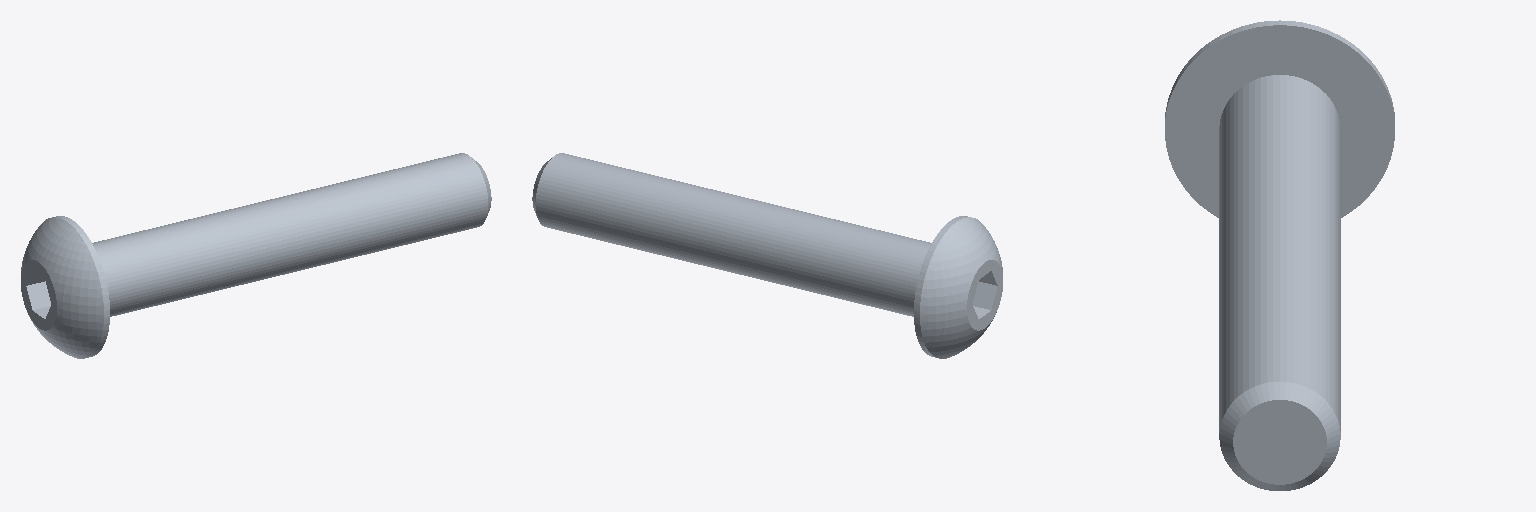
URDF robot description (rbe595_screw):
<robot name="rbe595_screw">
    <link name="root">
        <inertial>
            <mass value="0.003" />
            <origin xyz="-1.11519e-17 0.0578898 1.8646e-17" rpy="0 -0 0" />
            <inertia ixx="9.656e-9" ixy="2.486e-14" ixz="4.048e-13" iyy="2.334e-7" iyz="0" izz="2.334e-7" />
        </inertial>
        <collision>
            <origin xyz="0 0 0" rpy="0 0 0"/>
            <geometry>
                <mesh filename="package://rbe595_screw/meshes/Part_1.stl"
                    scale="1 1 1"/>
            </geometry>
        </collision>
        <visual>
            <origin xyz="0 0 0" rpy="0 -0 0" />
            <geometry>
                <mesh filename="package://rbe595_screw/meshes/Part_1.stl" scale="1 1 1" />
            </geometry>
            <material name="alloy_steel">
                <color rgba="0.75 0.78 0.82 1.0"/>
            </material>
        </visual>
    </link>
    <gazebo reference="">
        <visual>
            <material>
                <pbr>
                    <metal>
                        <albedo_map>materials/textures/alloy_steel.png</albedo_map>
                        <metalness>1.0</metalness>
                        <roughness>0.25</roughness>
                    </metal>
                </pbr>
            </material>
        </visual>
        <mu1>1.0</mu1>
        <mu2>1.0</mu2>
    </gazebo>
</robot>

--- What the picture shows (computed from the rendered views, not written in the file) ---
Views: 3 orthographic renders of the robot side by side, from view 1: azimuth 30°, elevation 25°; view 2: azimuth 150°, elevation 25°; view 3: azimuth 270°, elevation 25°.
Robot: rbe595_screw — 1 links, 0 joints (none); root link root; default pose: all joints at 0.
Links seen in each view (by area): view 1: root; view 2: root; view 3: root.
Boxes of the visible links, bbox=[...] form: root: bbox=[21, 153, 491, 358]; root: bbox=[532, 153, 1002, 358]; root: bbox=[1165, 20, 1394, 490].
Bounding box of the posed robot: 0.0276 × 0.0079 × 0.0079 m (x, y, z).
1 mesh visuals loaded from 1 distinct referenced files (1 binary STL).
